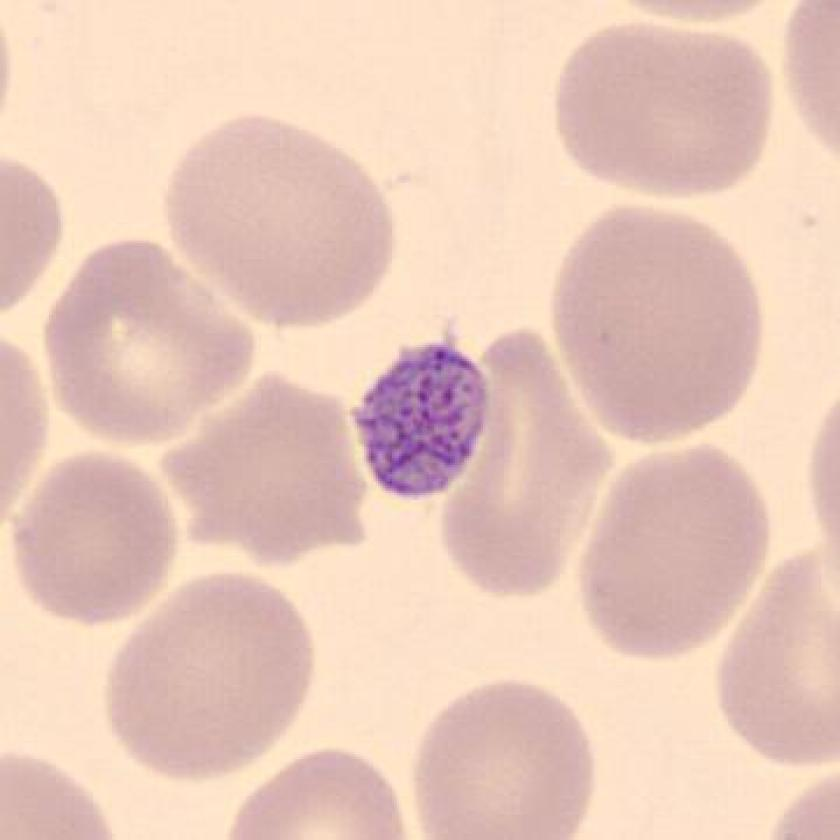platelets: (349, 316, 498, 512)
